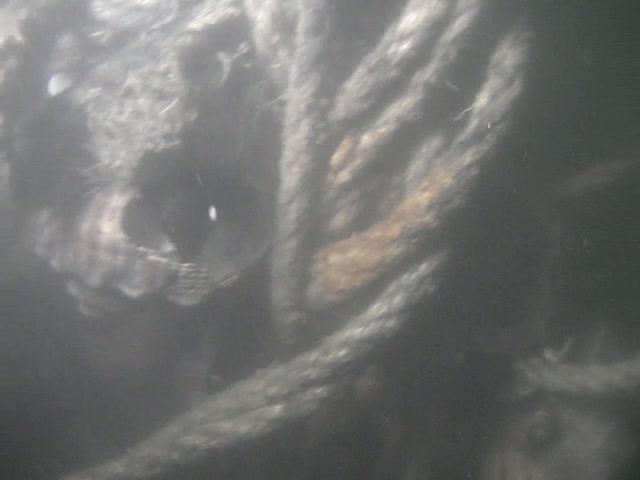bundle of ropes: (59, 2, 640, 480)
